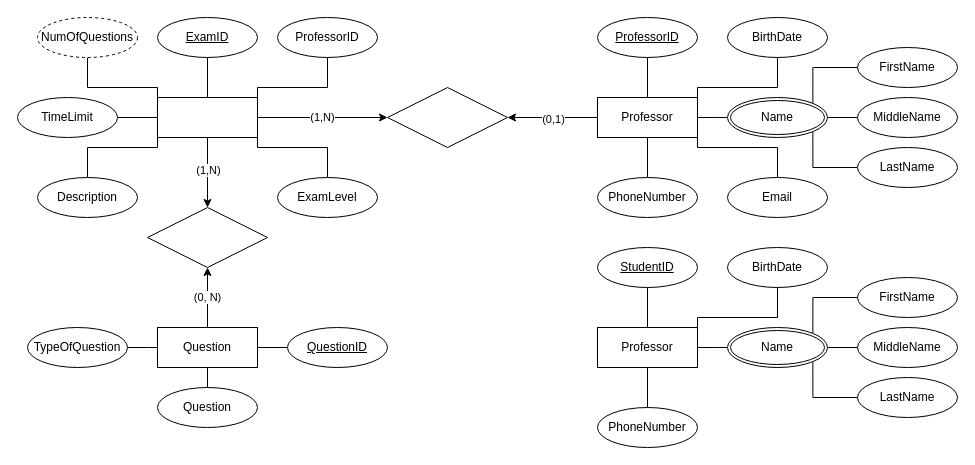
The diagram is 975 pixels wide and 465 high, and some of its shapes have lost their labels. The shapes that lost their labels are listed below. From the top down, each one's centre as x and y in pixels, then its label:
At point (207, 117): "Exam".
At point (447, 117): "Made_By".
At point (207, 237): "Question_IN_Exam".
